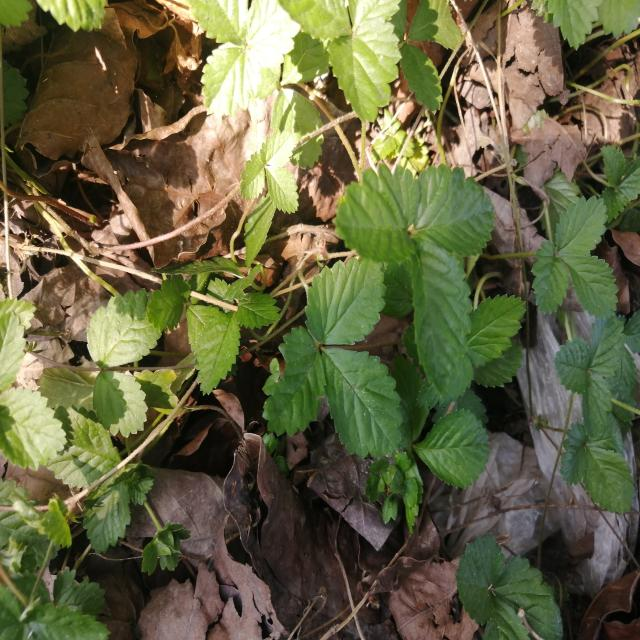Mock_strawberry: (349, 137, 518, 361), (234, 262, 429, 443)
